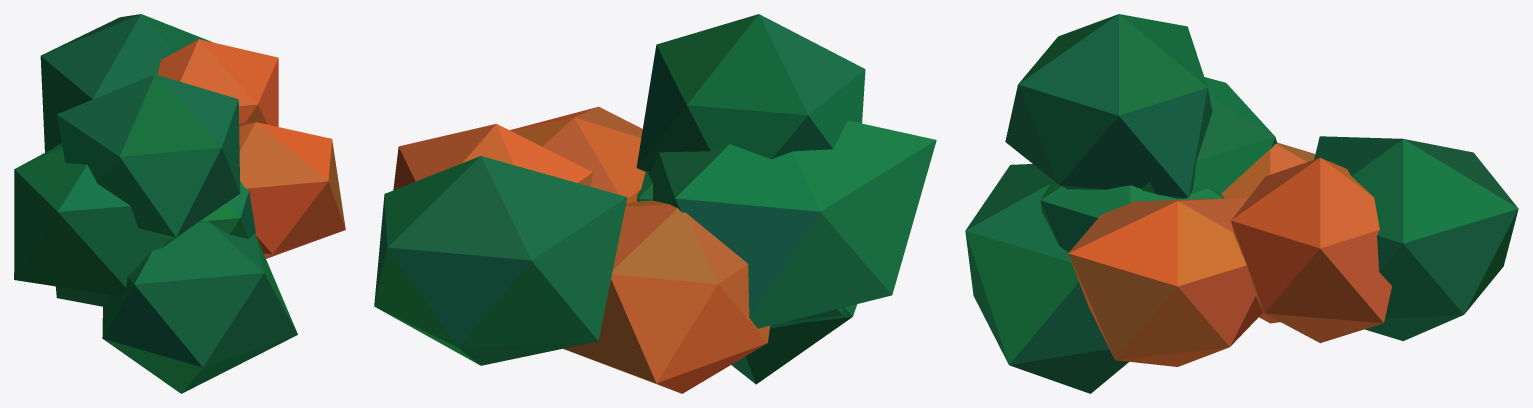
Rendered from copper_ore_ground.glb.
The picture shows the model from 3 angles, left to right: view 1: azimuth 30°, elevation 25°; view 2: azimuth 150°, elevation 25°; view 3: azimuth 270°, elevation 25°; orthographic projection. The views are drawn at different scales.
Parts seen in each view (by area): view 1: Ore; view 2: Ore; view 3: Ore.
Part boxes in pixels (x1,y1,x2,y2): Ore: [14, 14, 345, 393]; Ore: [374, 14, 936, 393]; Ore: [965, 14, 1518, 393].
Bounding box in the file's own units: 0.3187 × 0.2871 × 0.3873.
